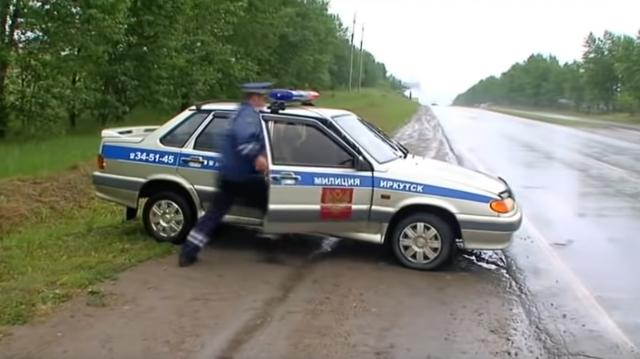police car: (87, 83, 528, 276)
